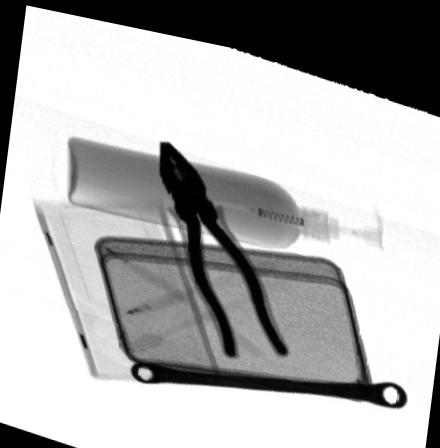Pliers: (154, 133, 295, 350)
Wrench: (129, 353, 407, 393)
